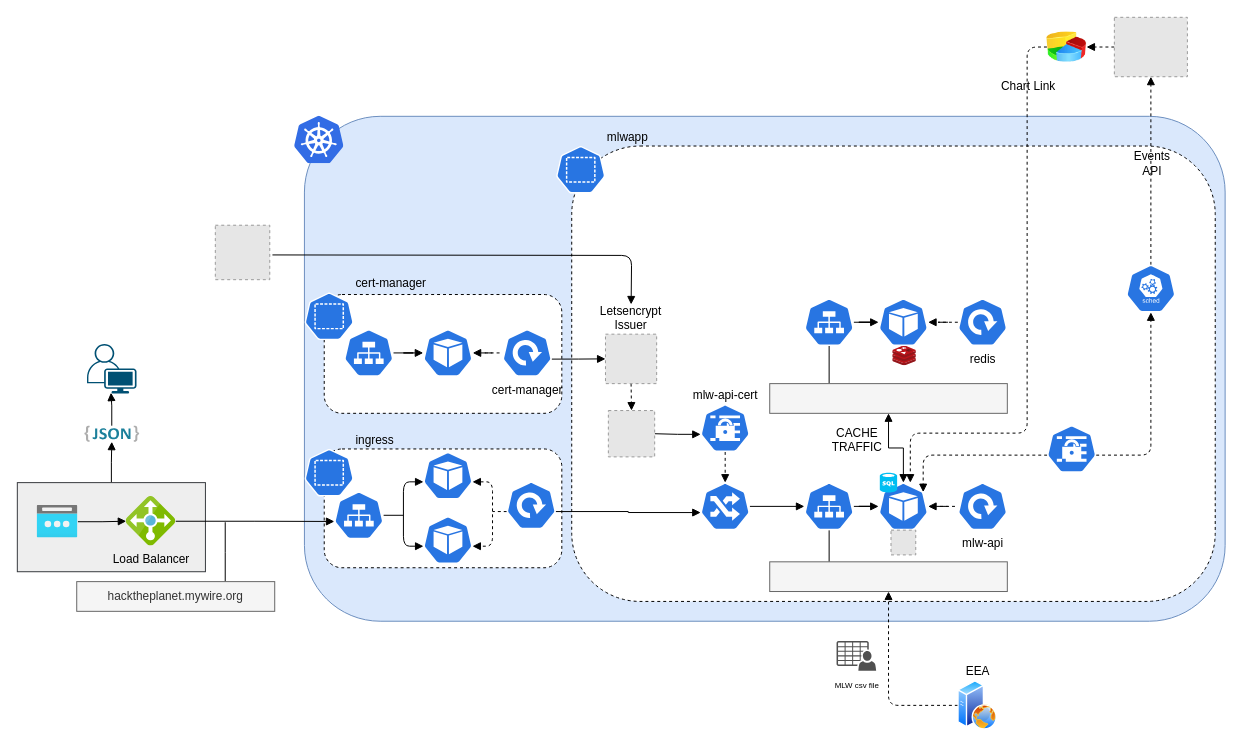
Some shapes in this 1242 by 747 pixel diagram are drawn without their labels. Grey dashed boxes stand in for pictures. The centre of each missing label's shape, as x and y in pixels:
"Kubernetes" belongs at pixel 319 139.
"mlw-api.mlwapp.svc.cluster.local" belongs at pixel 888 576.
"newrelic secrets" belongs at pixel 1071 448.
"nginx ingress controller" belongs at pixel 530 505.
"Public IP" belongs at pixel 57 521.
"redis.mlwapp.svc.cluster.local" belongs at pixel 888 398.
